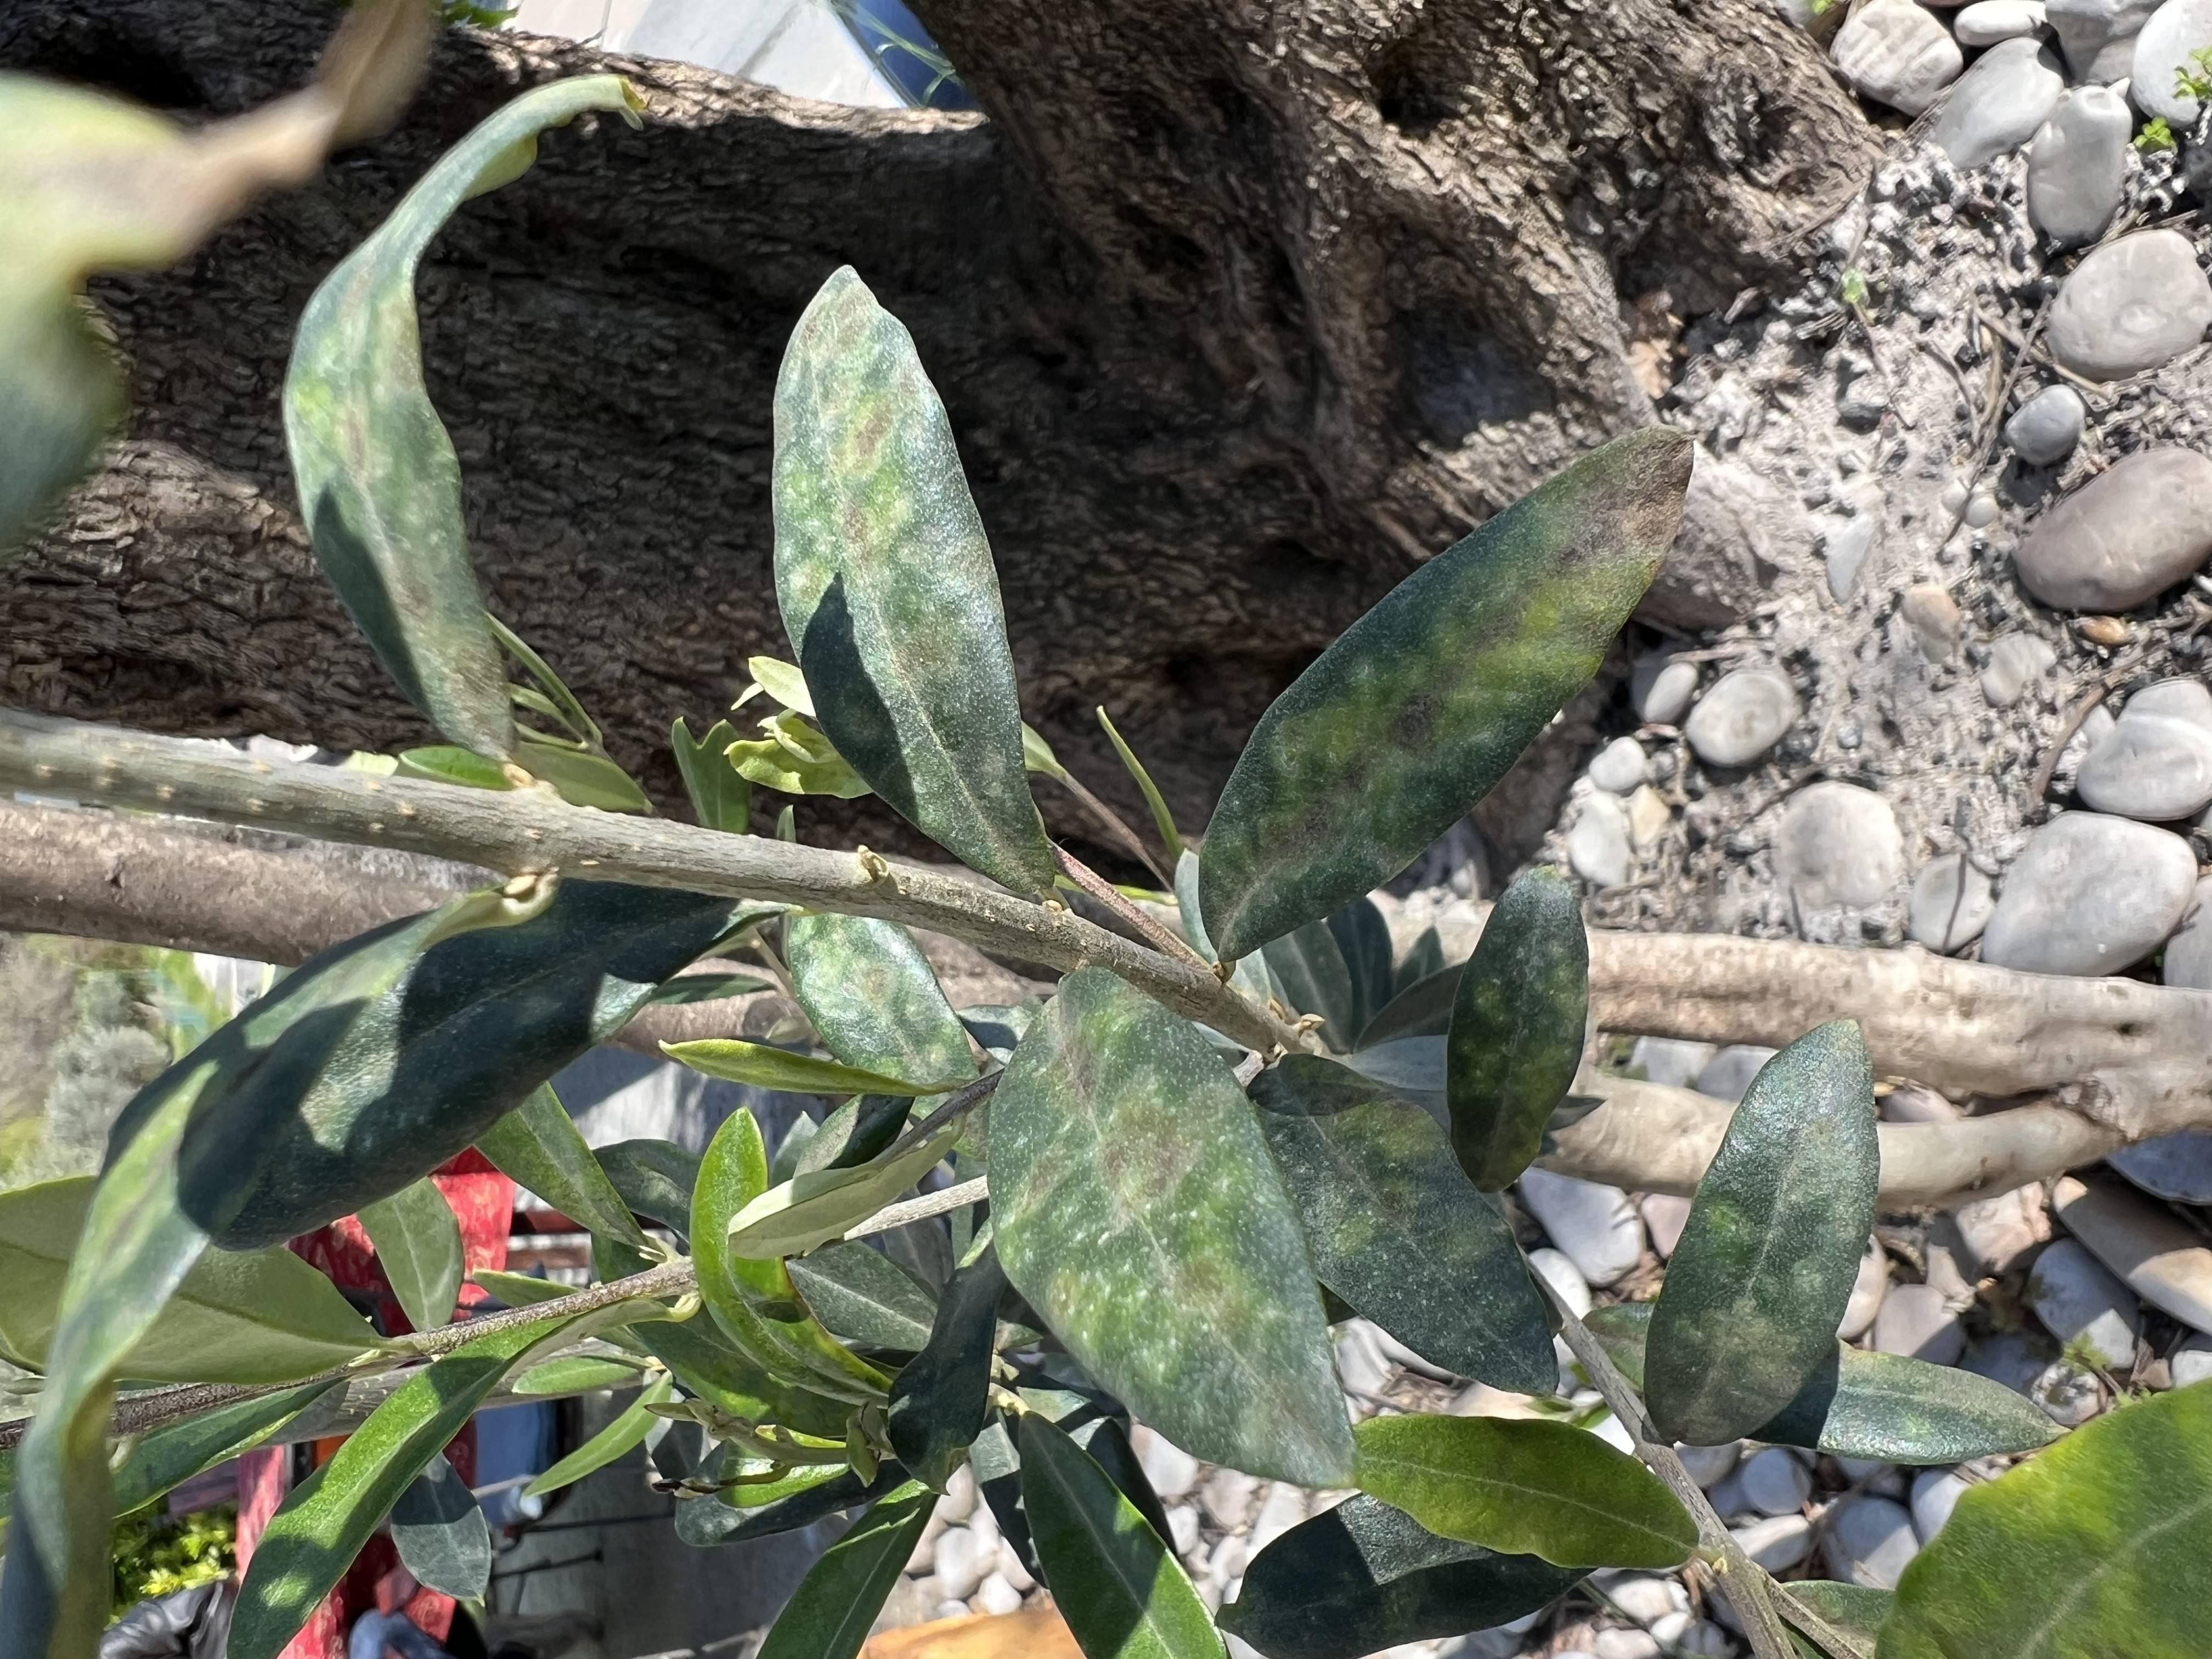OlivePeacockSpot: (70, 30, 1043, 362), (934, 897, 1653, 1277), (1177, 206, 2121, 484), (552, 134, 1055, 552), (223, 734, 935, 1026), (1033, 568, 1869, 800), (347, 936, 815, 1169), (279, 1234, 864, 1417), (751, 579, 1014, 741), (625, 1103, 1050, 1197)
